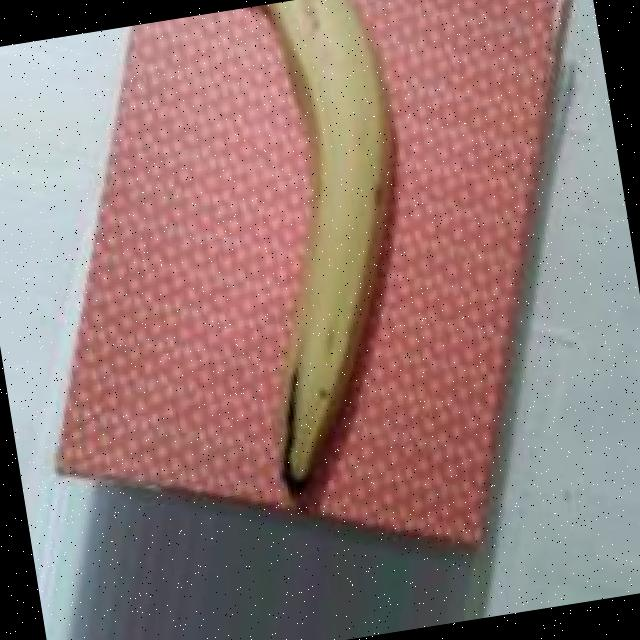banana: (164, 0, 516, 541)
